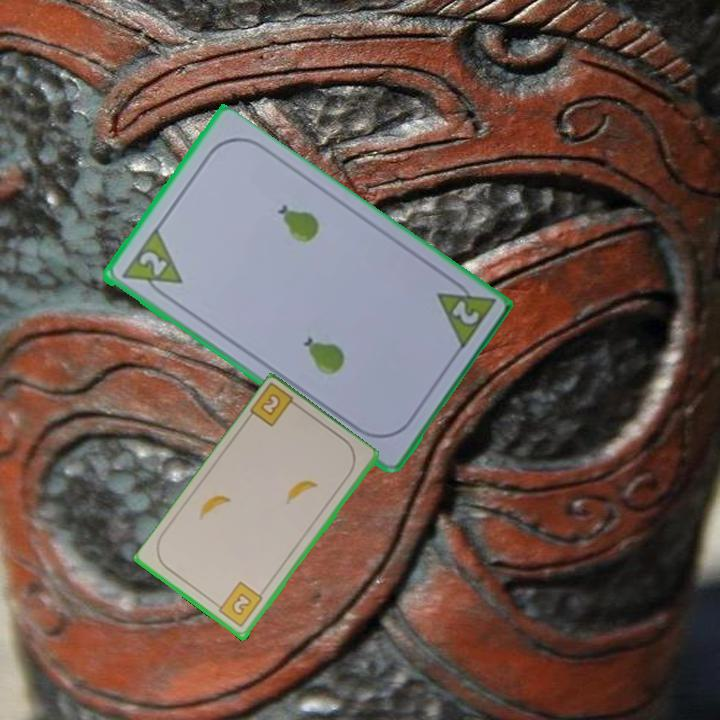2b: (211, 579, 266, 630), (246, 382, 304, 430)
2p: (431, 272, 497, 354), (134, 248, 170, 279)
